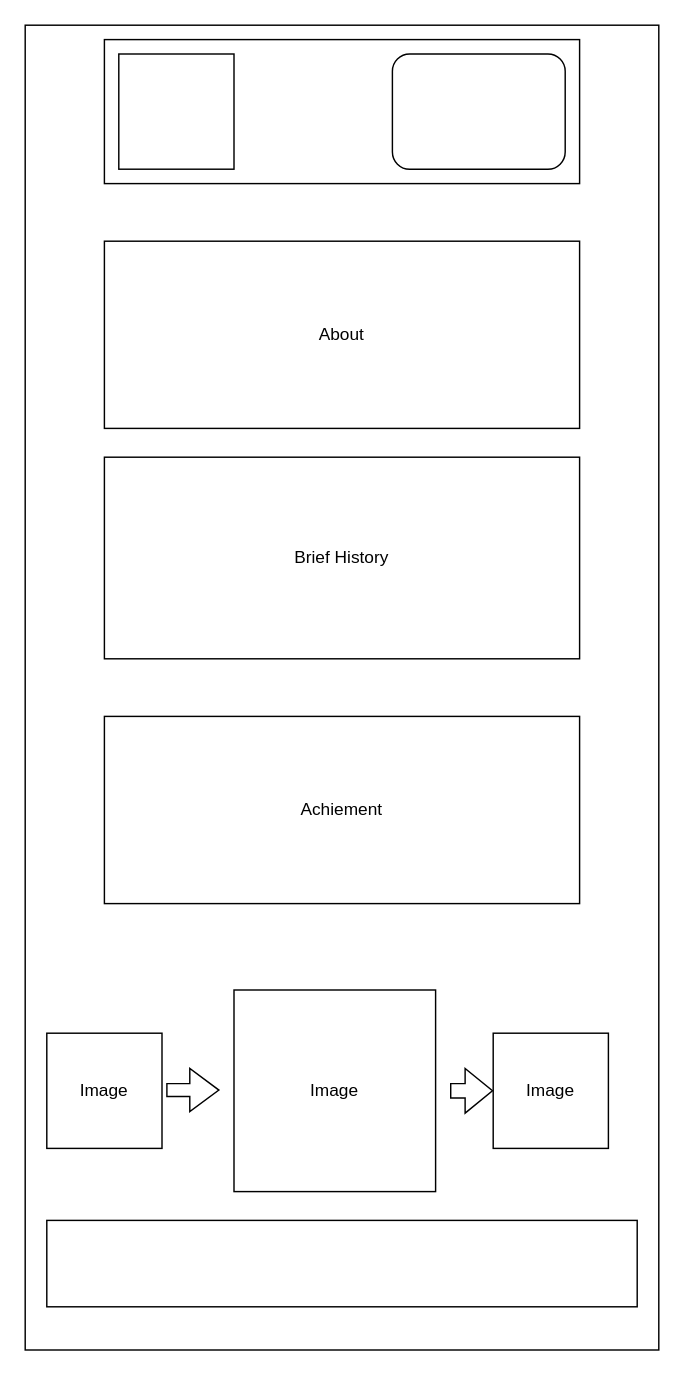
The diagram is 684 pixels wide and 1375 high, and some of its shapes have lost their labels. Here are the shapes that lost their labels. From the top down, the centre of each, then its label:
the point at 175,111: Logo
the point at 478,111: Nav button 1 Nav Button 2 Nav Button 3
the point at 341,1263: Footer
